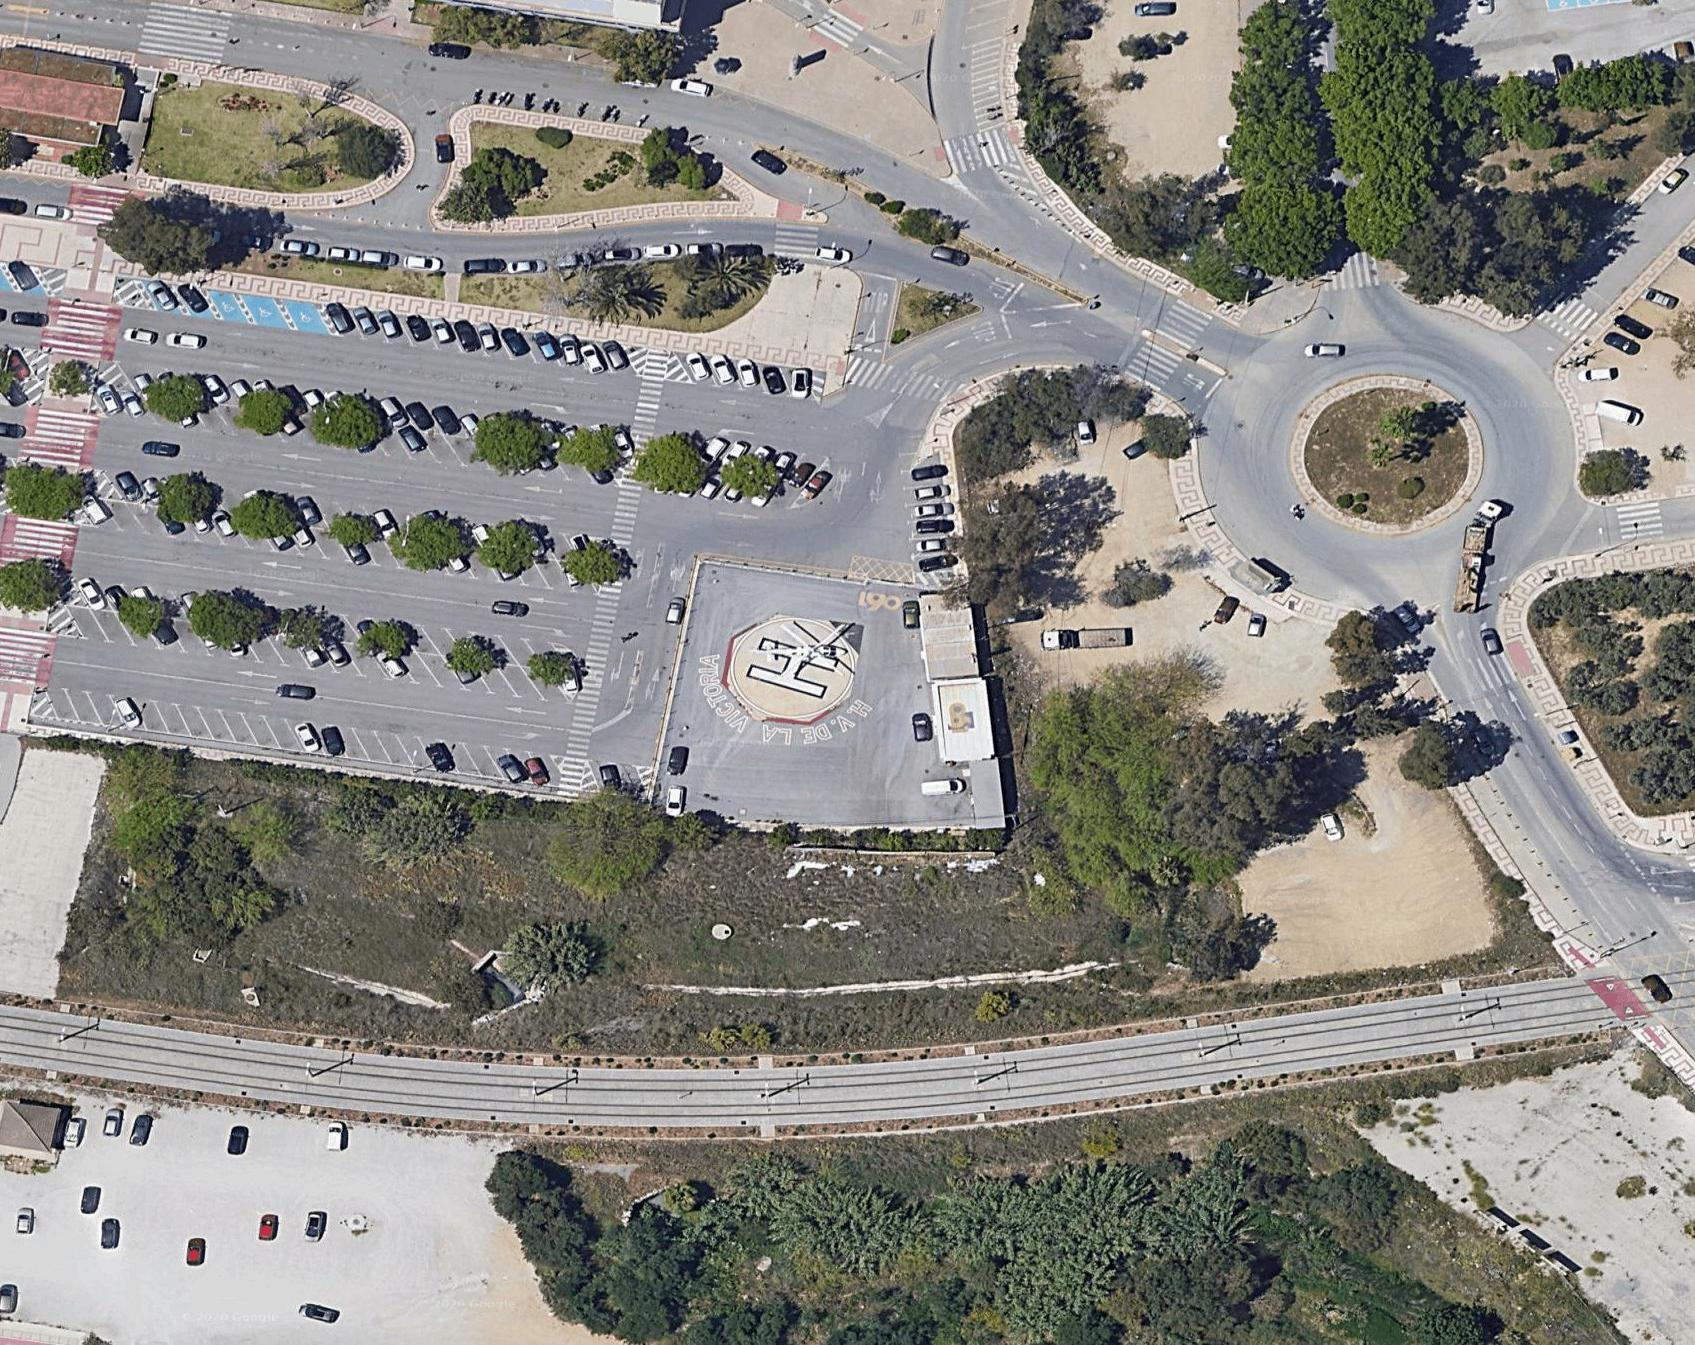helicopter: (754, 628, 845, 666)
helipad: (718, 612, 870, 719)
roundabout: (1292, 377, 1479, 536)
small-vehicle: (389, 415, 429, 459), (422, 739, 455, 776), (498, 750, 530, 787), (198, 371, 228, 407), (294, 721, 325, 754), (300, 1301, 338, 1326), (113, 468, 142, 501), (318, 725, 343, 758), (911, 708, 934, 743), (1304, 341, 1346, 360), (142, 437, 180, 458), (300, 1210, 323, 1242), (257, 1212, 279, 1245), (433, 133, 455, 164), (99, 1218, 118, 1253), (186, 1238, 206, 1269)
